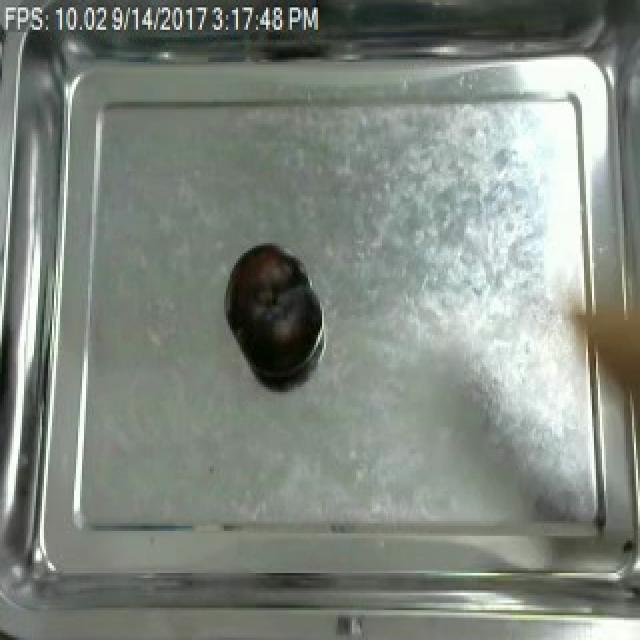Fruit: (222, 238, 318, 382)
